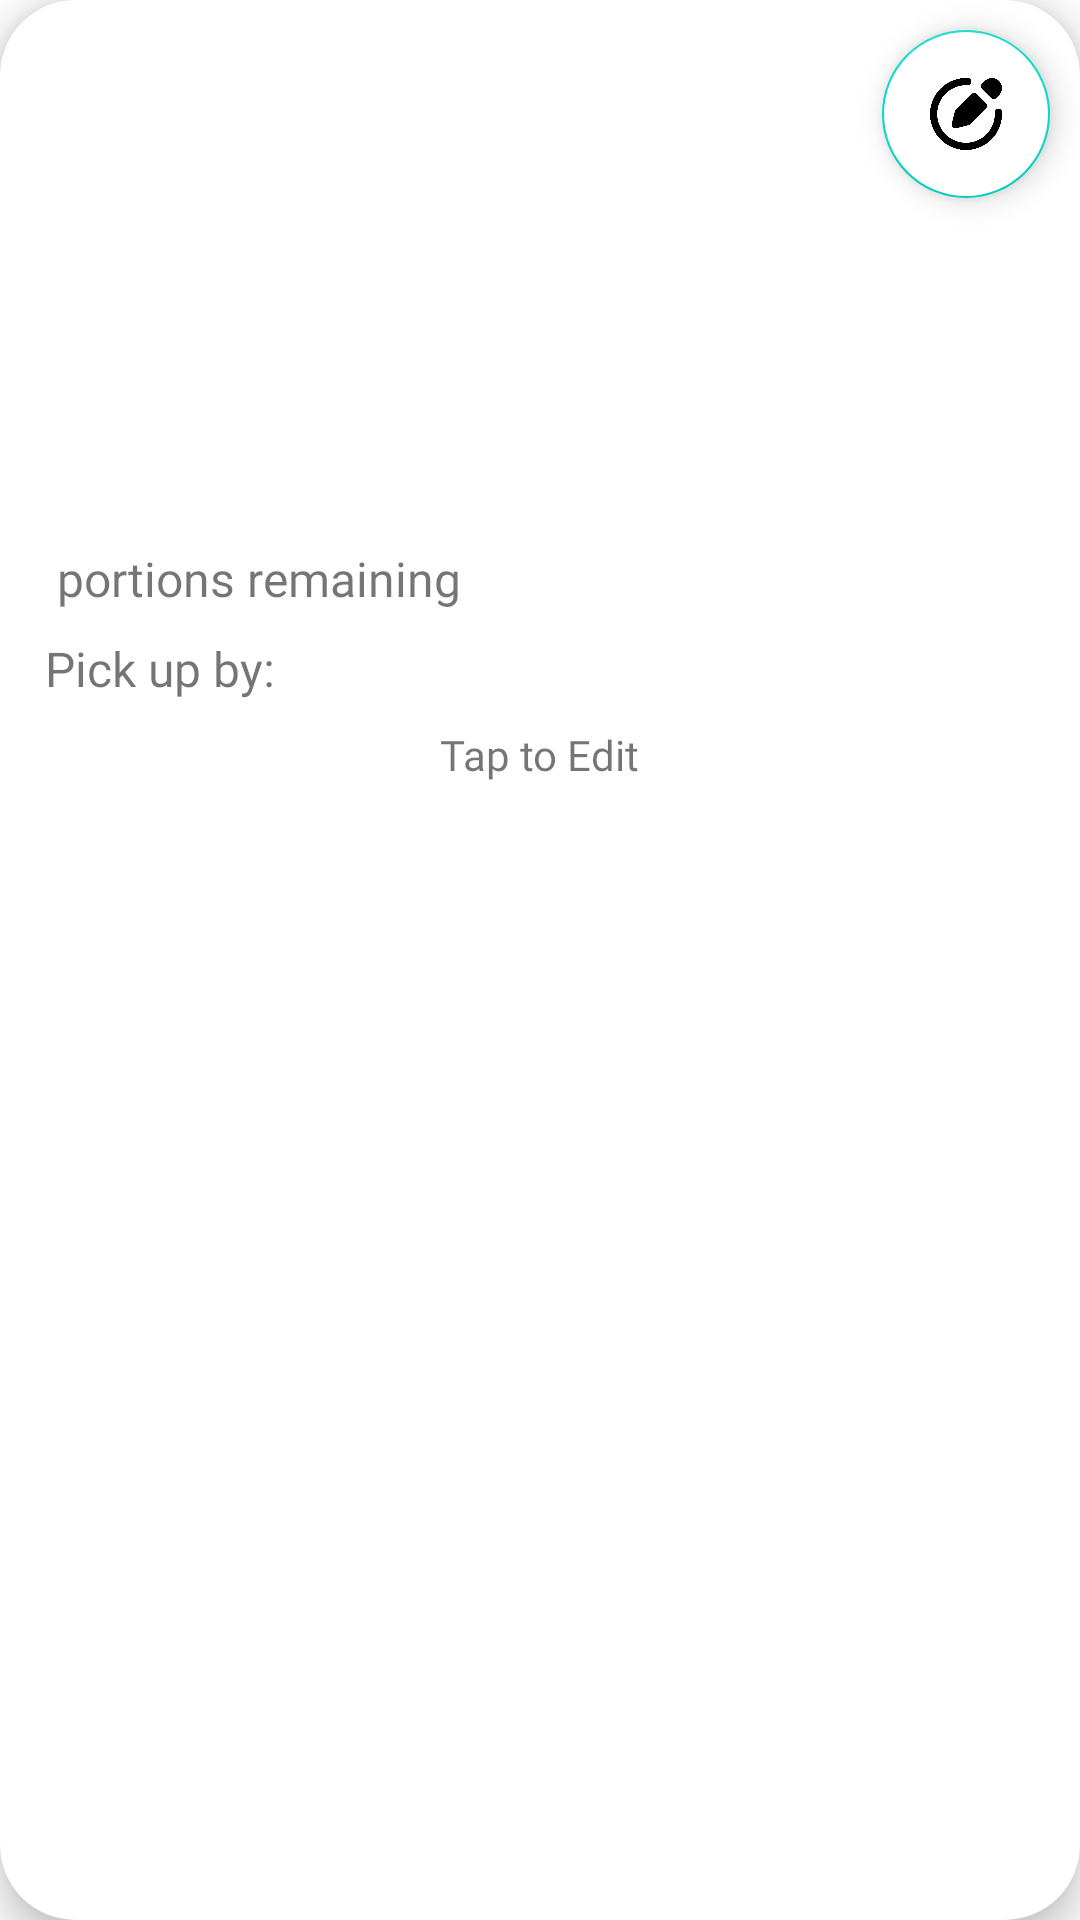

Icons on this 1080x1920 Android screen, each with the point to tap as (x,y):
edit: (966,114)
